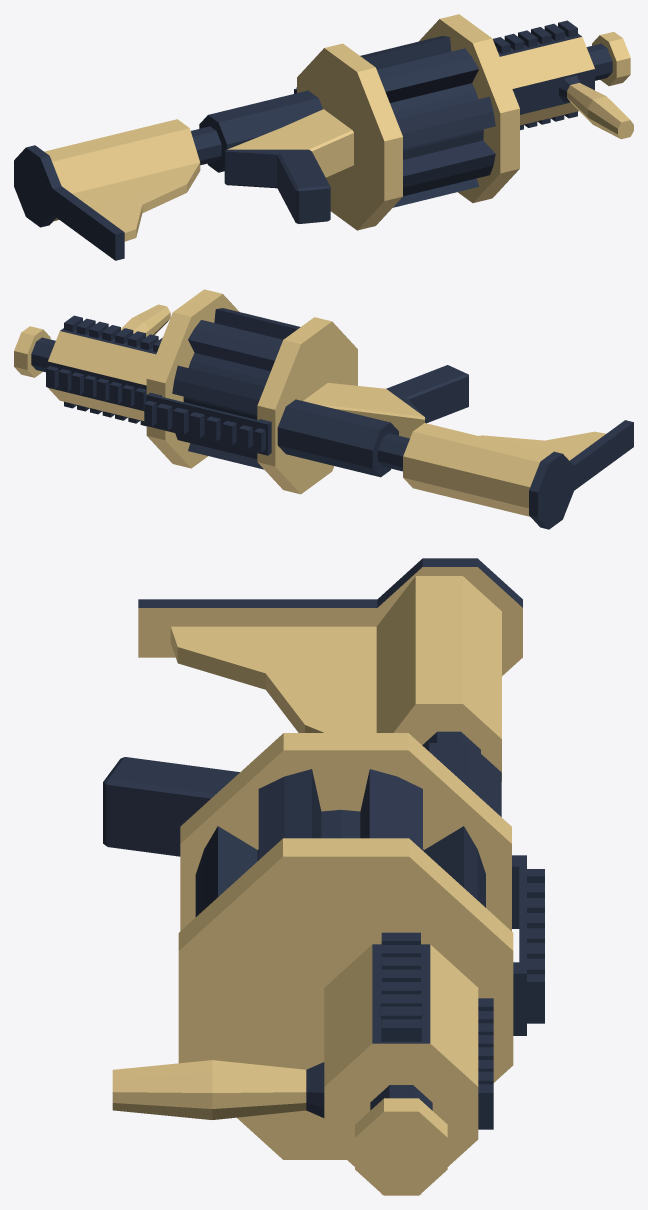
The model's file is Grenade_Launcher.fbx.
The picture shows the model from 3 angles, top to bottom: view 1: azimuth 30°, elevation 25°; view 2: azimuth 150°, elevation 25°; view 3: azimuth 270°, elevation 25°; orthographic projection. The views are drawn at different scales.
Visible parts, largest first — view 1: Grenade_Launcher; view 2: Grenade_Launcher; view 3: Grenade_Launcher.
Boxes of the visible parts, bbox=[...] form: Grenade_Launcher: bbox=[14, 14, 633, 260]; Grenade_Launcher: bbox=[14, 289, 633, 529]; Grenade_Launcher: bbox=[103, 558, 544, 1195].
Size of the model in its own units: 1068 by 285 by 376.
